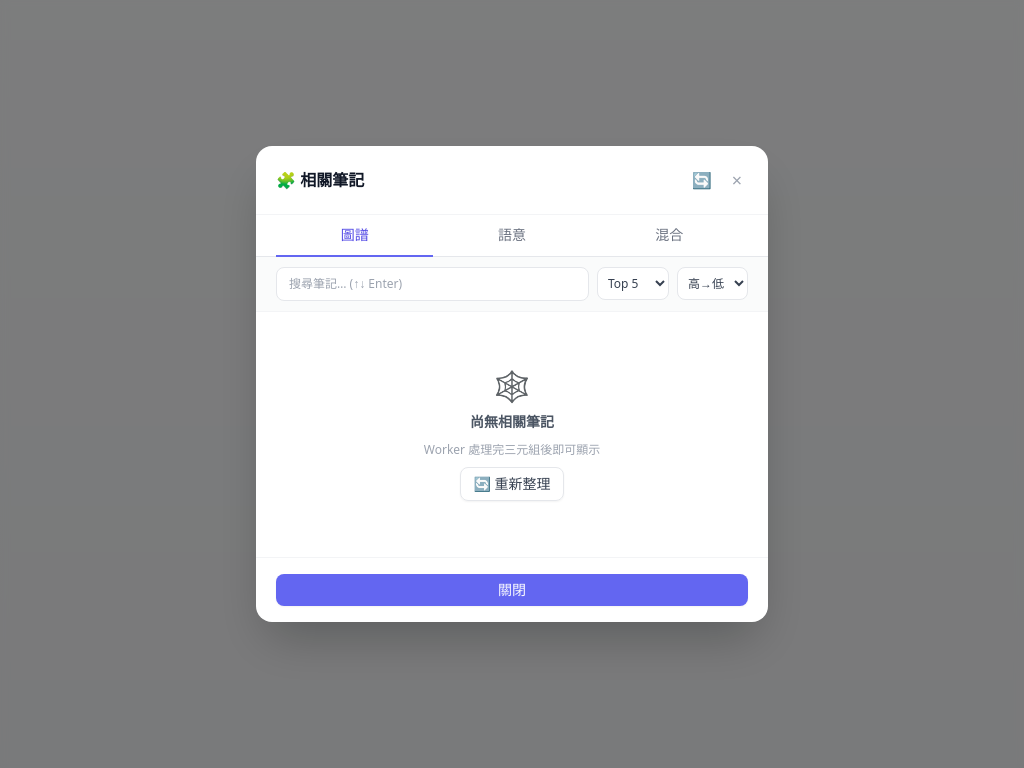
Test: RelatedNotesPanel › H5 — semantic-only item renders badge-semantic but not badge-graph
expect the text "尚無相關筆記" is shown: met, box [470, 412, 554, 431]
Click the button "混合": (669, 236) [591, 215, 748, 257]
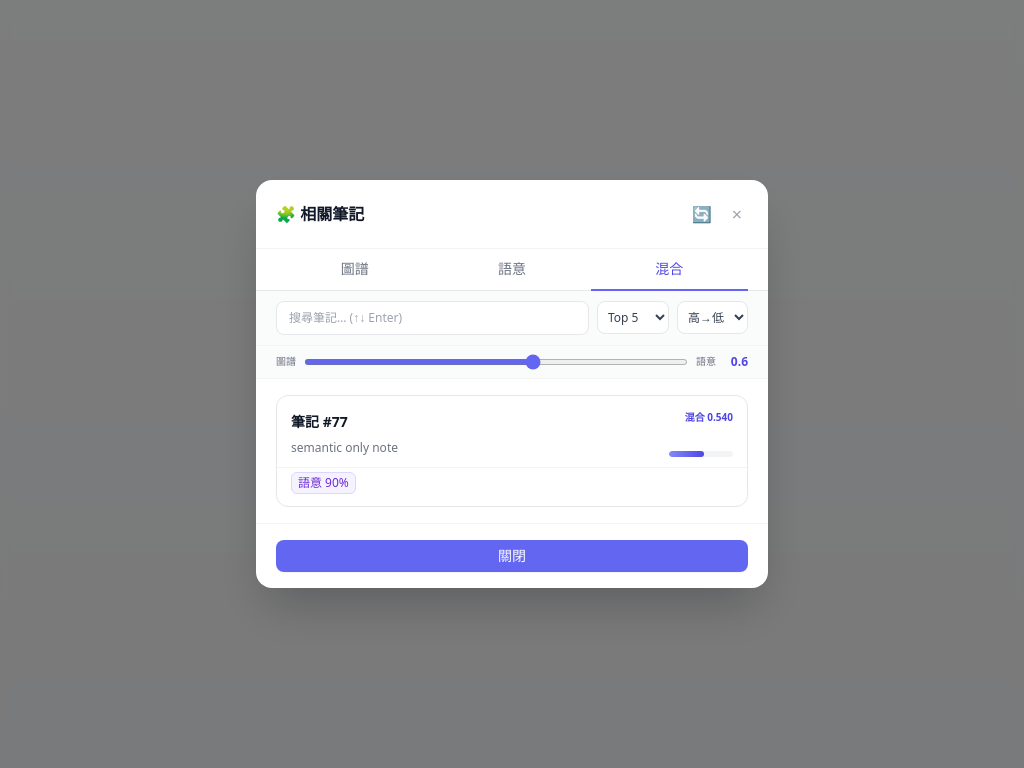
expect the text "語意 90%" is shown: met, box [291, 472, 356, 494]
